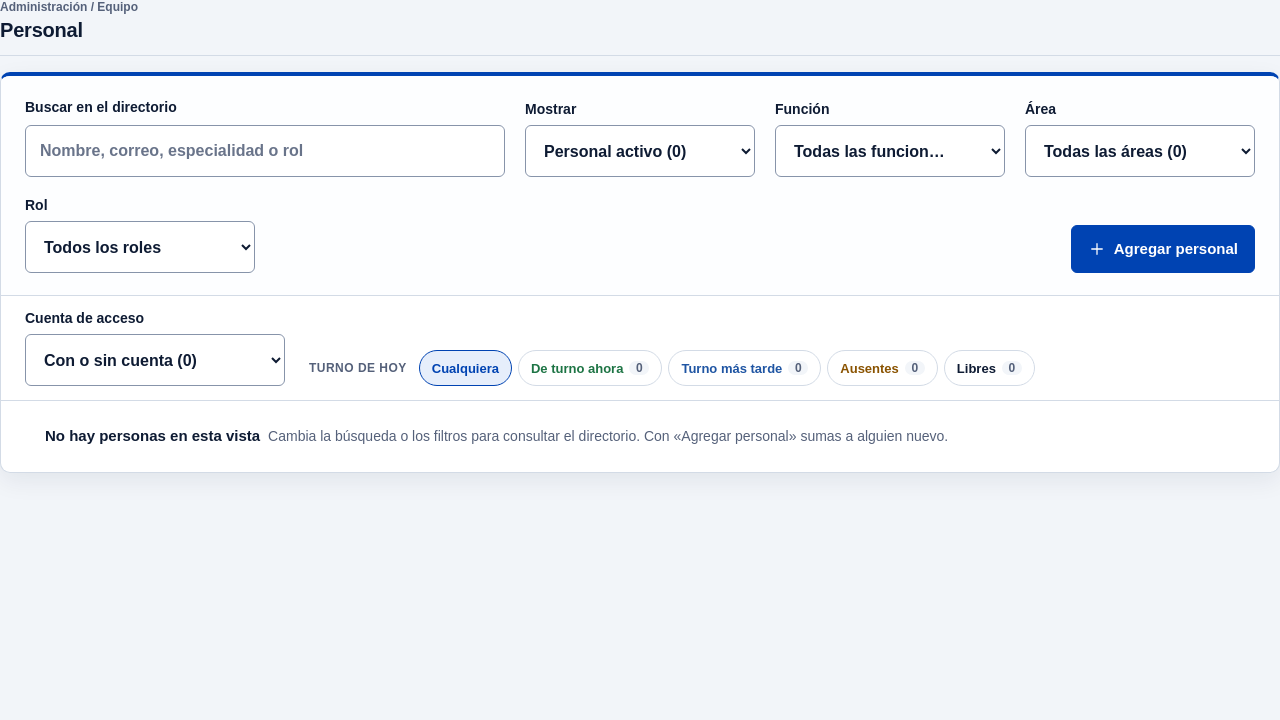
Scenario: G1 · registrar e invitar en un solo acto › registra, invita con el vínculo a la ficha, avisa y resalta la fila
The image size is (1280, 720).
Click the button "Agregar personal".
click(1163, 249)  # box [1071,225,1255,273]
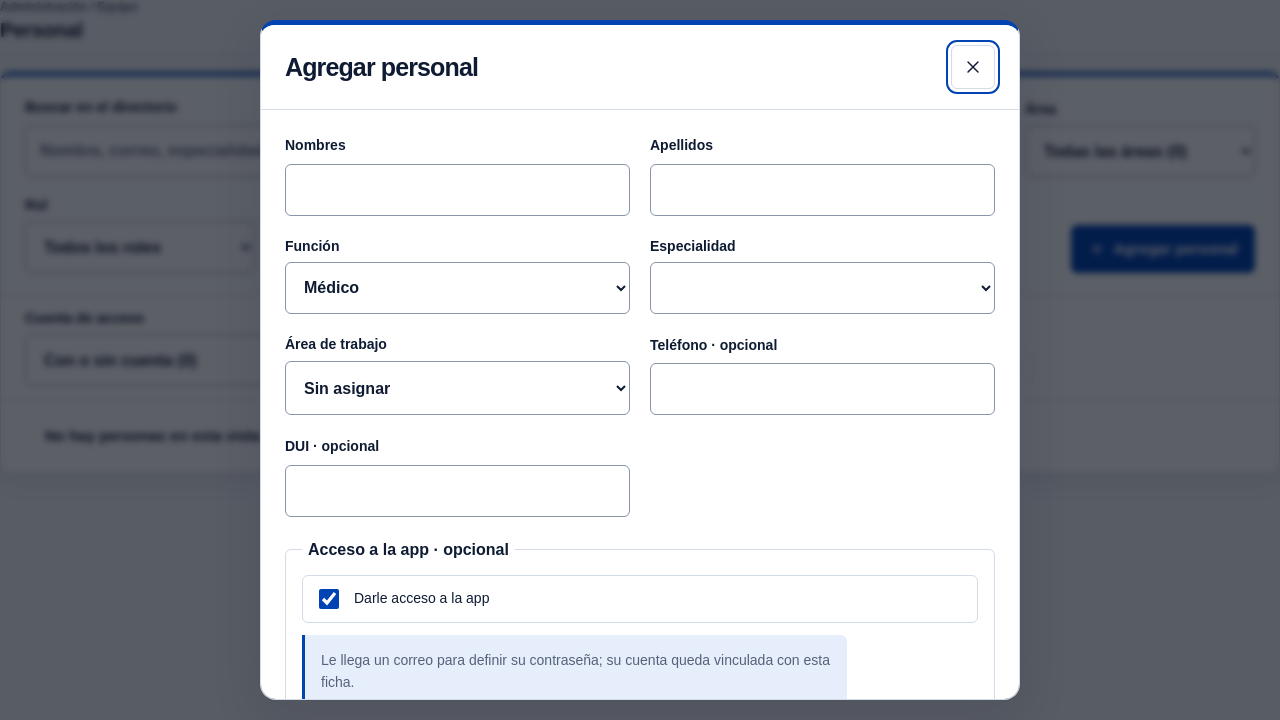
Type "Ana" into the field labelled "Nombres".
click(458, 190); type("Ana")  # box [285,164,630,216]
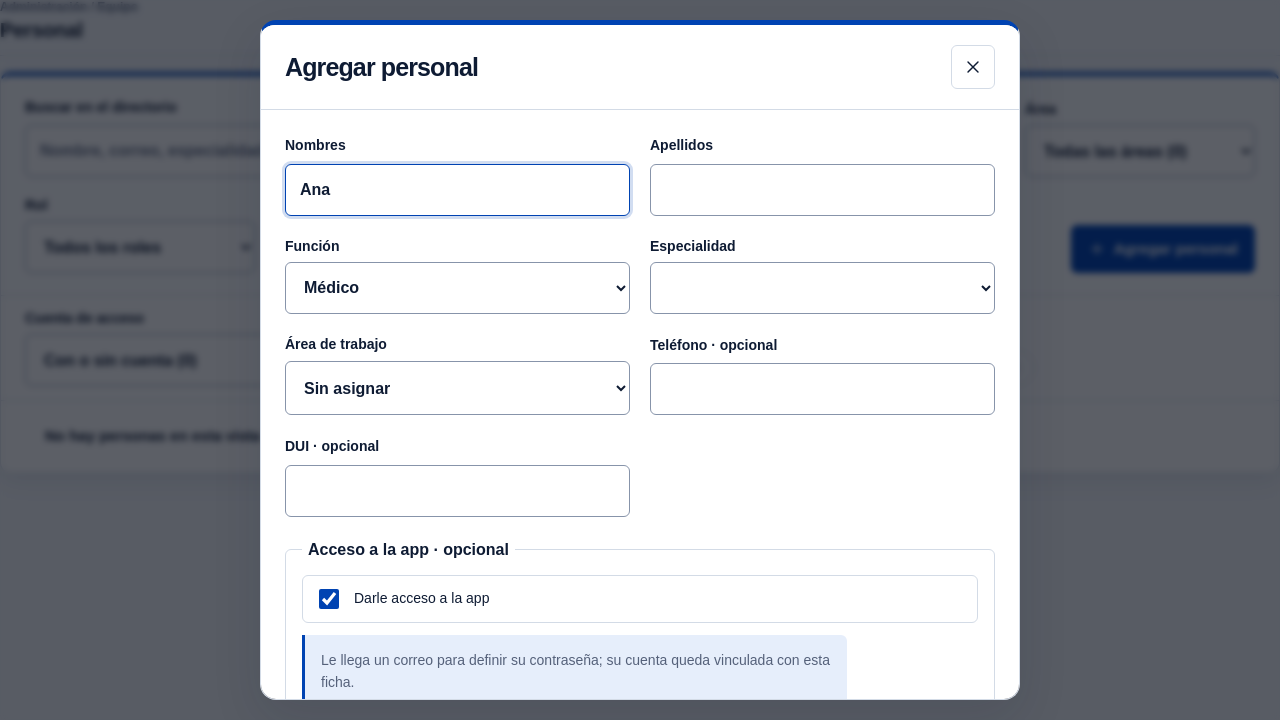
Type "Pérez Ficticia" into the field labelled "Apellidos".
click(822, 190); type("Pérez Ficticia")  # box [650,164,995,216]
(page scrolled)
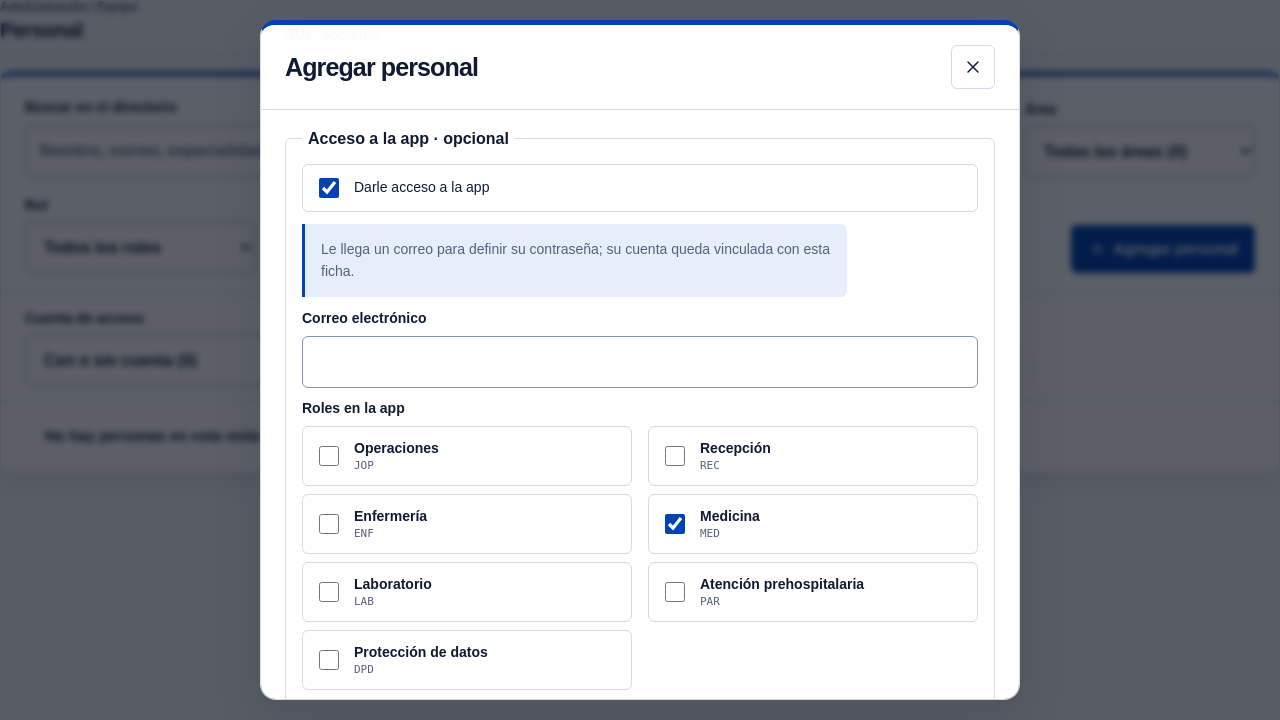
Now the checkbox labelled "Darle acceso a la app" is checked, box [319,178,339,198]
Type "ana@example.test" into the field labelled "Correo electrónico".
click(640, 362); type("ana@example.test")  # box [302,336,978,388]
(page scrolled)
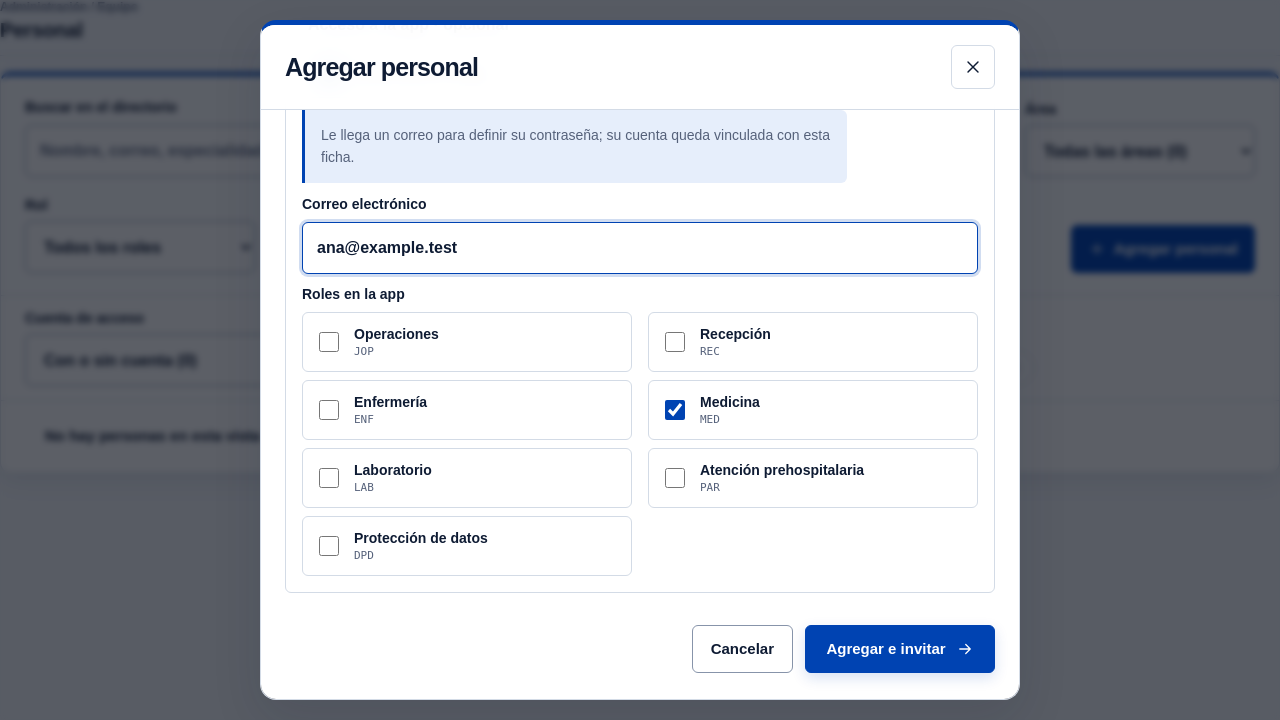
Now the checkbox labelled "Medicina MED" is checked, box [665,400,685,420]
Click the button "Agregar e invitar".
click(900, 649)  # box [805,625,995,673]
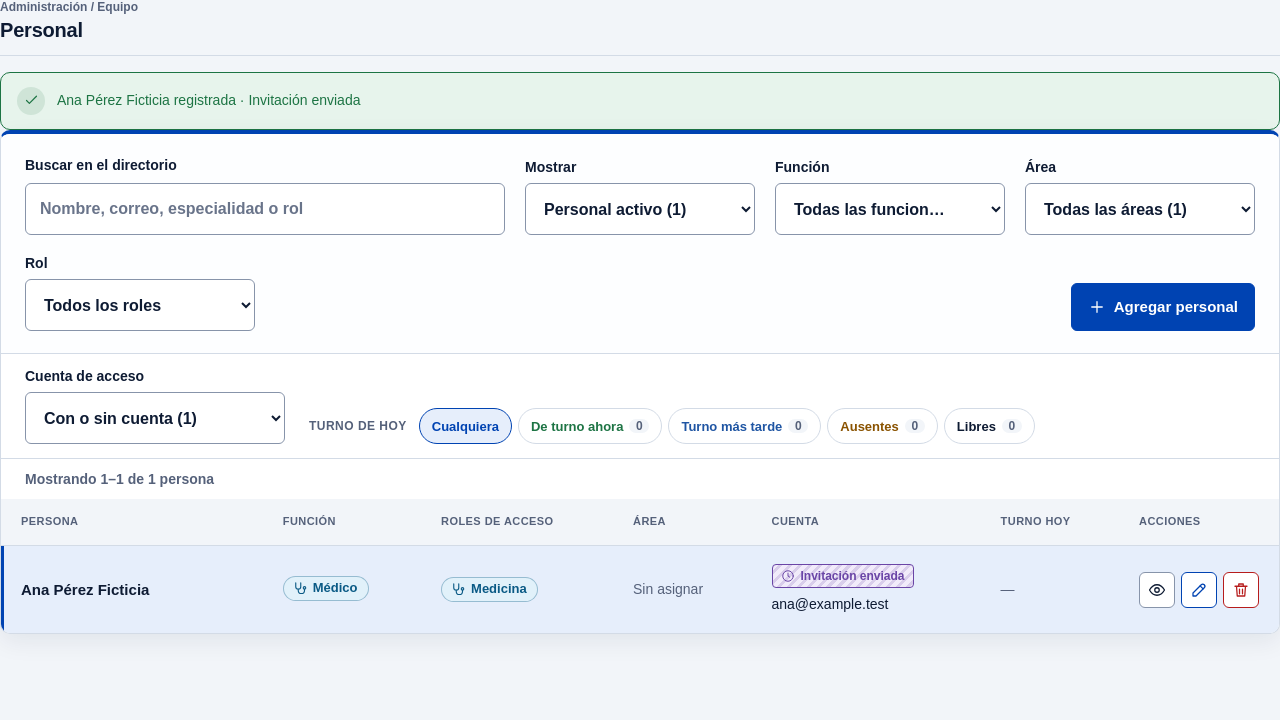
Now the text "Ana Pérez Ficticia registrada · Invitación enviada" is shown, box [57,87,360,111]
Now the text "Invitación enviada" is shown, box [800,568,904,584]
